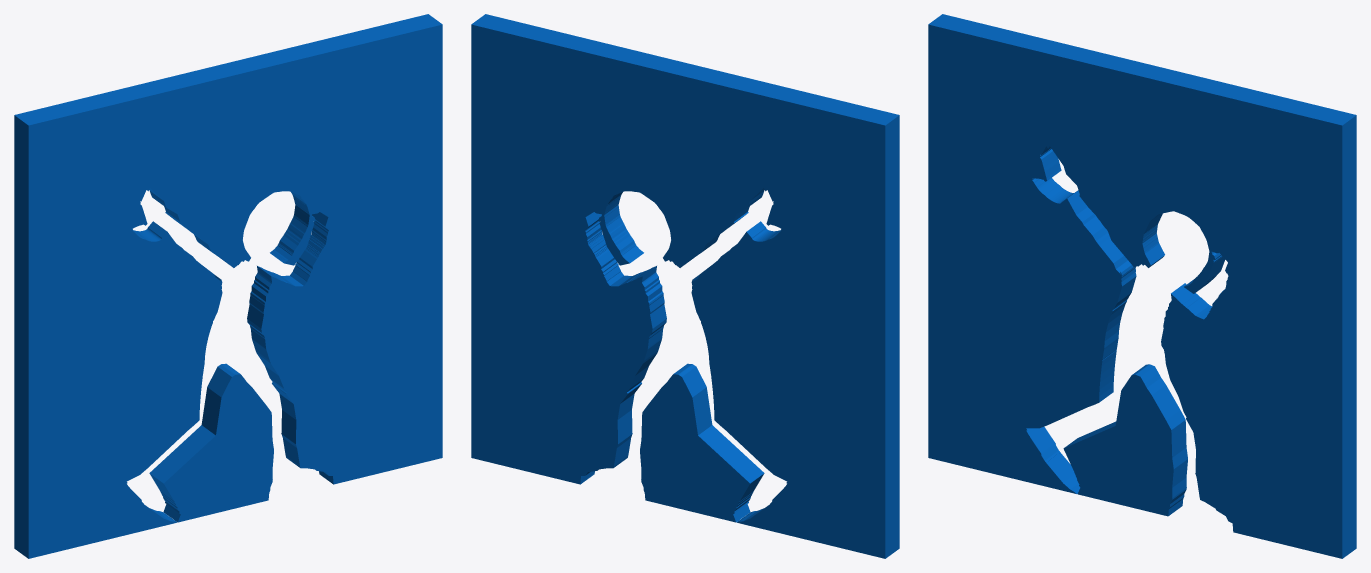
The model's file is PoseCWall.obj.
3 views of the same model, side by side, from view 1: azimuth 30°, elevation 25°; view 2: azimuth 150°, elevation 25°; view 3: azimuth 330°, elevation 25° (orthographic).
Parts seen in each view (by area): view 1: PoseCWall; view 2: PoseCWall; view 3: PoseCWall.
Boxes of the visible parts, left/top/right/bottom form: PoseCWall: left=14, top=14, right=442, bottom=558; PoseCWall: left=471, top=14, right=899, bottom=558; PoseCWall: left=928, top=14, right=1356, bottom=558.
Bounding box in the file's own units: 2.5 × 2.5 × 0.15.
1 material, 1 textured.
